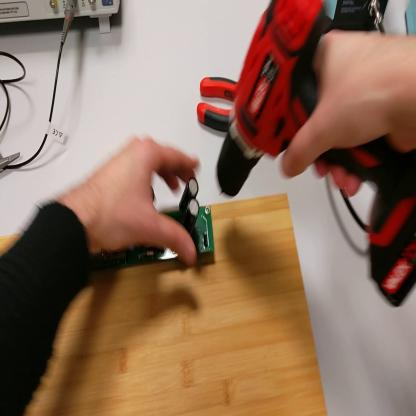electric screwdriver: (218, 3, 416, 310)
hand: (283, 27, 407, 192), (78, 134, 201, 264)
high voltage board: (99, 181, 215, 272)
oscilloscope: (2, 1, 121, 32)
oscilloscope probe tip: (2, 152, 22, 168)
pliers: (199, 74, 240, 135)
welder station: (405, 7, 415, 36)
working area: (1, 196, 325, 416)
